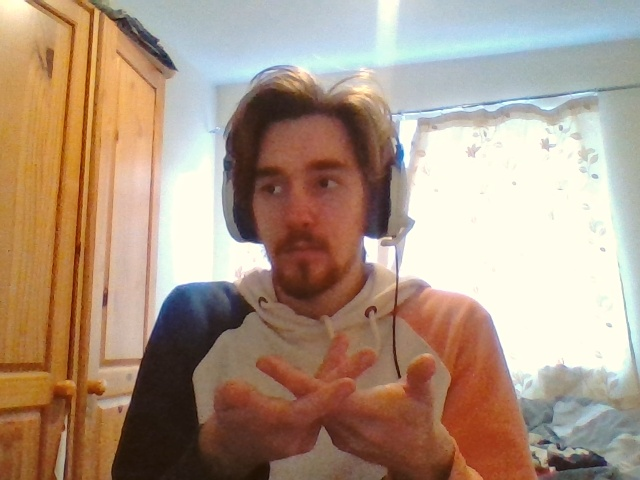how: (207, 336, 436, 462)
